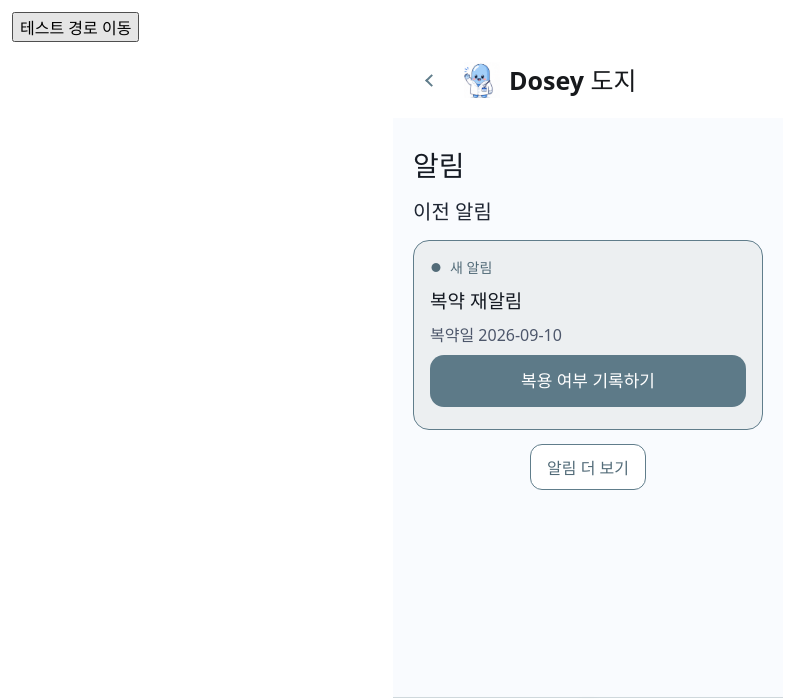
Test case: NotificationsPage › next_offset이 있으면 중복 없이 다음 페이지를 이어서 표시한다
This screenshot has width=800, height=699.
Click the button "알림 더 보기": (588, 467) [530,444,646,490]
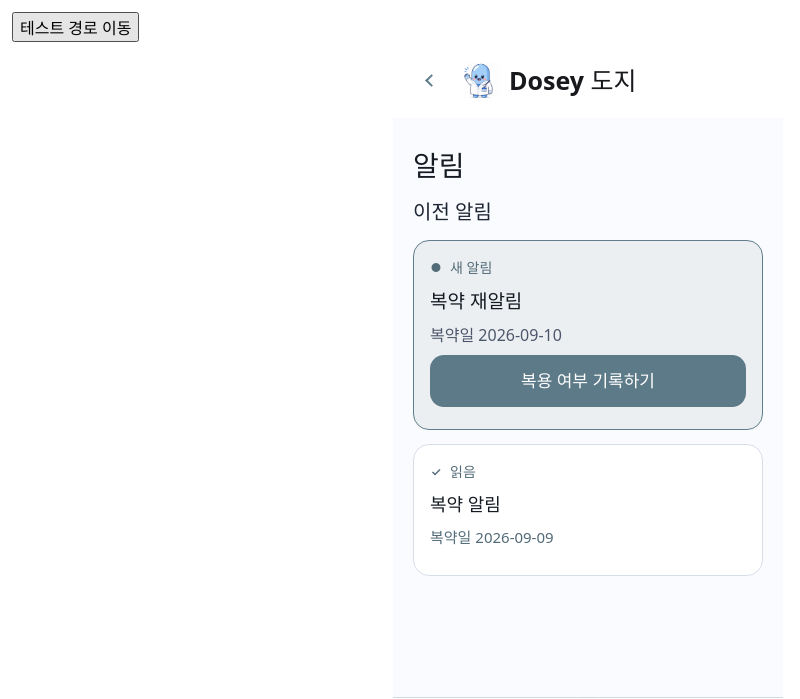
Expected: the button with aria-label "복약 알림, 복약일 2026-09-09, 읽음" is shown, [413,444,763,576]
